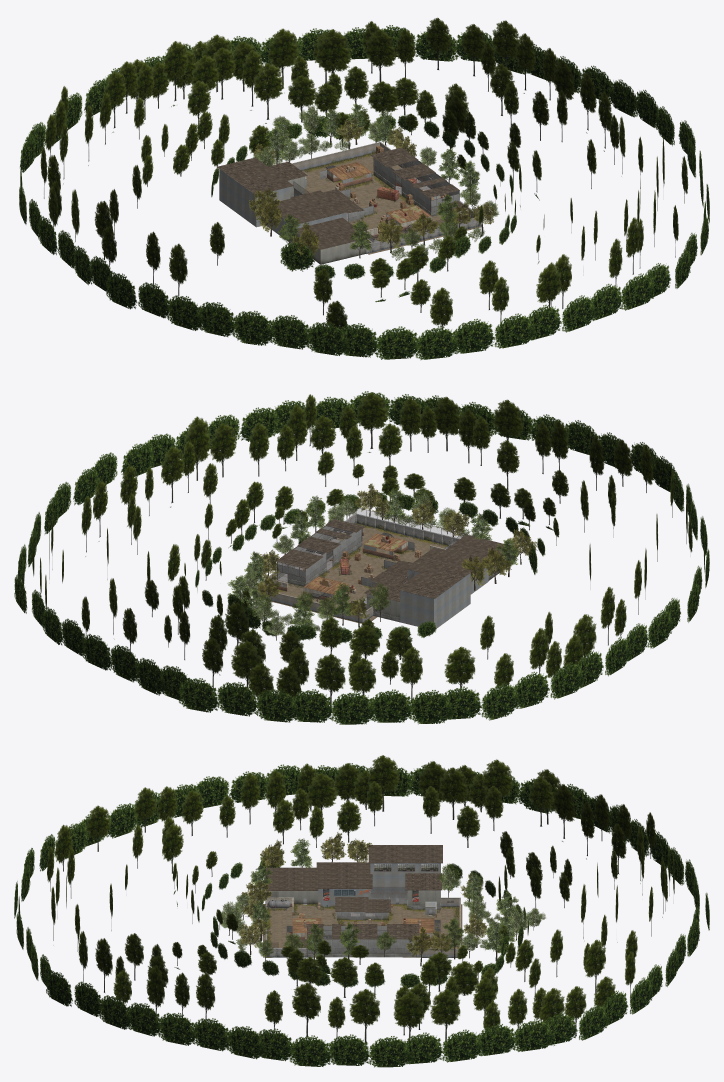
The model's file is arena.glb.
3 renders of one model, top to bottom at view 1: azimuth 30°, elevation 25°; view 2: azimuth 150°, elevation 25°; view 3: azimuth 270°, elevation 25°, orthographic. The views are drawn at different scales.
Visible parts, largest first — view 1: Combined_Mesh__root__scene__9_BricksDecal-sharedassets24.ass, Combined_Mesh__root__scene__3_CorrugatedIronRoof-sharedasset, Combined_Mesh__root__scene__8_ConcreteBrickAndPlasterWall_al, Combined_Mesh__root__scene__7_ConcreteWallParallelGrooves-sh, Combined_Mesh__root__scene__2_Bricks1-sharedassets24.assets., Combined_Mesh__root__scene__4_Arena-sharedassets25.assets.sp, Combined_Mesh__root__scene__5_Wall_1-sharedassets25.assets.s, Combined_Mesh__root__scene__0_BricksDecal-sharedassets24.ass, Combined_Mesh__root__scene__6_Plaster-sharedassets25.assets.; view 2: Combined_Mesh__root__scene__9_BricksDecal-sharedassets24.ass, Combined_Mesh__root__scene__3_CorrugatedIronRoof-sharedasset, Combined_Mesh__root__scene__8_ConcreteBrickAndPlasterWall_al, Combined_Mesh__root__scene__7_ConcreteWallParallelGrooves-sh, Combined_Mesh__root__scene__2_Bricks1-sharedassets24.assets., Combined_Mesh__root__scene__4_Arena-sharedassets25.assets.sp, Combined_Mesh__root__scene__6_Plaster-sharedassets25.assets., Combined_Mesh__root__scene__0_BricksDecal-sharedassets24.ass, Combined_Mesh__root__scene__5_Wall_1-sharedassets25.assets.s; view 3: Combined_Mesh__root__scene__9_BricksDecal-sharedassets24.ass, Combined_Mesh__root__scene__3_CorrugatedIronRoof-sharedasset, Combined_Mesh__root__scene__8_ConcreteBrickAndPlasterWall_al, Combined_Mesh__root__scene__7_ConcreteWallParallelGrooves-sh, Combined_Mesh__root__scene__4_Arena-sharedassets25.assets.sp, Combined_Mesh__root__scene__2_Bricks1-sharedassets24.assets., Combined_Mesh__root__scene__5_Wall_1-sharedassets25.assets.s, Combined_Mesh__root__scene__0_BricksDecal-sharedassets24.ass.
Part boxes in pixels (box(x1,y1,x2,y2)): Combined_Mesh__root__scene__9_BricksDecal-sharedassets24.ass: box(19, 17, 709, 359); Combined_Mesh__root__scene__3_CorrugatedIronRoof-sharedasset: box(217, 147, 468, 249); Combined_Mesh__root__scene__8_ConcreteBrickAndPlasterWall_al: box(291, 142, 481, 254); Combined_Mesh__root__scene__7_ConcreteWallParallelGrooves-sh: box(219, 169, 476, 244); Combined_Mesh__root__scene__2_Bricks1-sharedassets24.assets.: box(248, 116, 490, 258); Combined_Mesh__root__scene__4_Arena-sharedassets25.assets.sp: box(327, 145, 446, 241); Combined_Mesh__root__scene__5_Wall_1-sharedassets25.assets.s: box(287, 176, 366, 264); Combined_Mesh__root__scene__0_BricksDecal-sharedassets24.ass: box(304, 150, 481, 249); Combined_Mesh__root__scene__6_Plaster-sharedassets25.assets.: box(305, 170, 468, 243); Combined_Mesh__root__scene__9_BricksDecal-sharedassets24.ass: box(14, 391, 709, 724); Combined_Mesh__root__scene__3_CorrugatedIronRoof-sharedasset: box(276, 519, 511, 622); Combined_Mesh__root__scene__8_ConcreteBrickAndPlasterWall_al: box(253, 513, 459, 623); Combined_Mesh__root__scene__7_ConcreteWallParallelGrooves-sh: box(356, 513, 488, 628); Combined_Mesh__root__scene__2_Bricks1-sharedassets24.assets.: box(235, 494, 537, 640); Combined_Mesh__root__scene__4_Arena-sharedassets25.assets.sp: box(262, 532, 456, 594); Combined_Mesh__root__scene__6_Plaster-sharedassets25.assets.: box(268, 528, 445, 610); Combined_Mesh__root__scene__0_BricksDecal-sharedassets24.ass: box(278, 522, 447, 591); Combined_Mesh__root__scene__5_Wall_1-sharedassets25.assets.s: box(366, 552, 514, 617); Combined_Mesh__root__scene__9_BricksDecal-sharedassets24.ass: box(14, 755, 709, 1067); Combined_Mesh__root__scene__3_CorrugatedIronRoof-sharedasset: box(265, 845, 442, 957); Combined_Mesh__root__scene__8_ConcreteBrickAndPlasterWall_al: box(263, 897, 462, 957); Combined_Mesh__root__scene__7_ConcreteWallParallelGrooves-sh: box(265, 863, 440, 941); Combined_Mesh__root__scene__4_Arena-sharedassets25.assets.sp: box(268, 864, 456, 948); Combined_Mesh__root__scene__2_Bricks1-sharedassets24.assets.: box(226, 844, 535, 966); Combined_Mesh__root__scene__5_Wall_1-sharedassets25.assets.s: box(266, 890, 440, 905); Combined_Mesh__root__scene__0_BricksDecal-sharedassets24.ass: box(266, 904, 459, 957).
Size of the model in its own units: 2.17 by 0.2422 by 2.33.
Materials: 10 (10 with a texture image).
